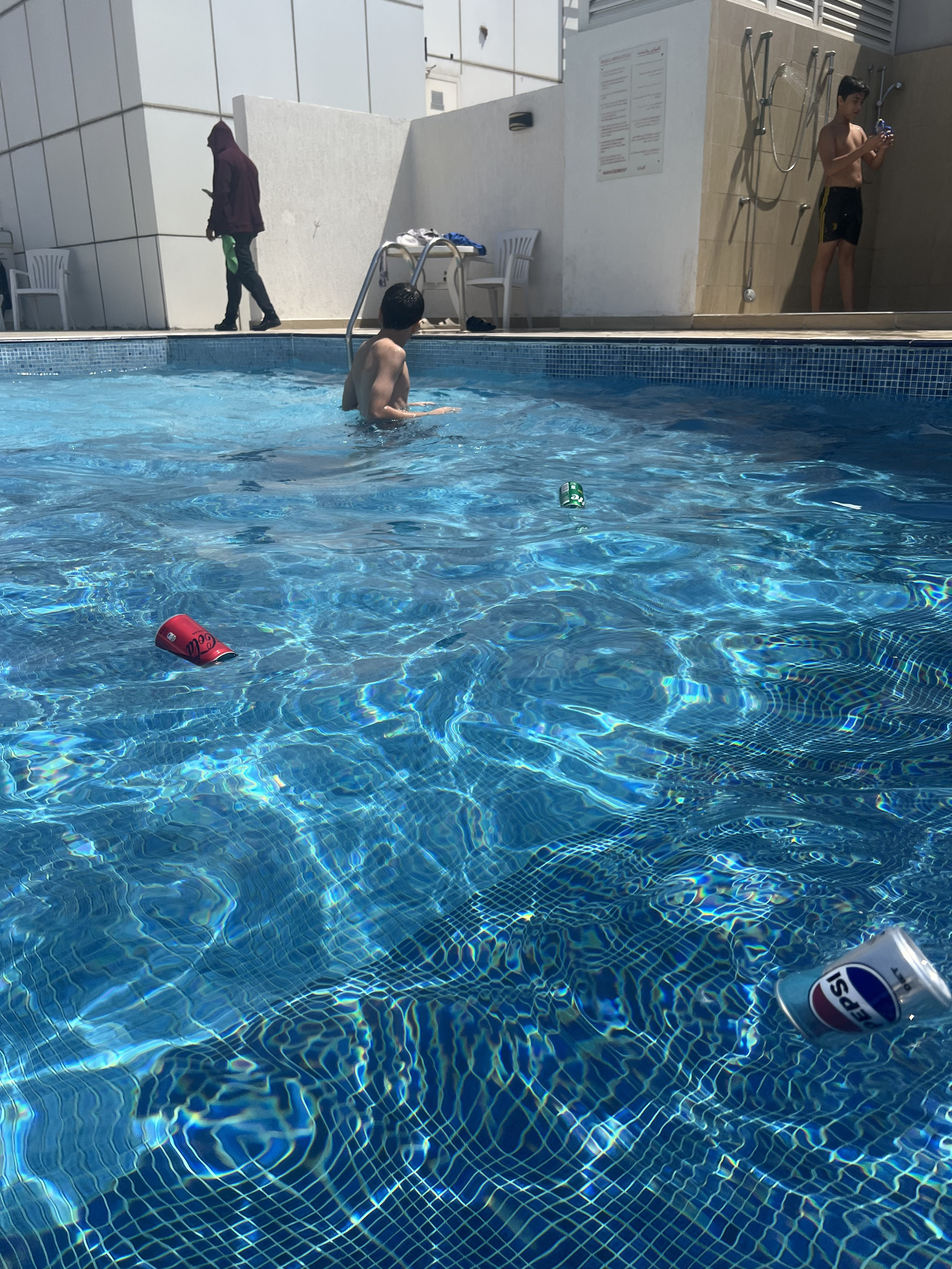debris: (770, 887, 946, 1075), (155, 595, 241, 686), (553, 472, 587, 525)
